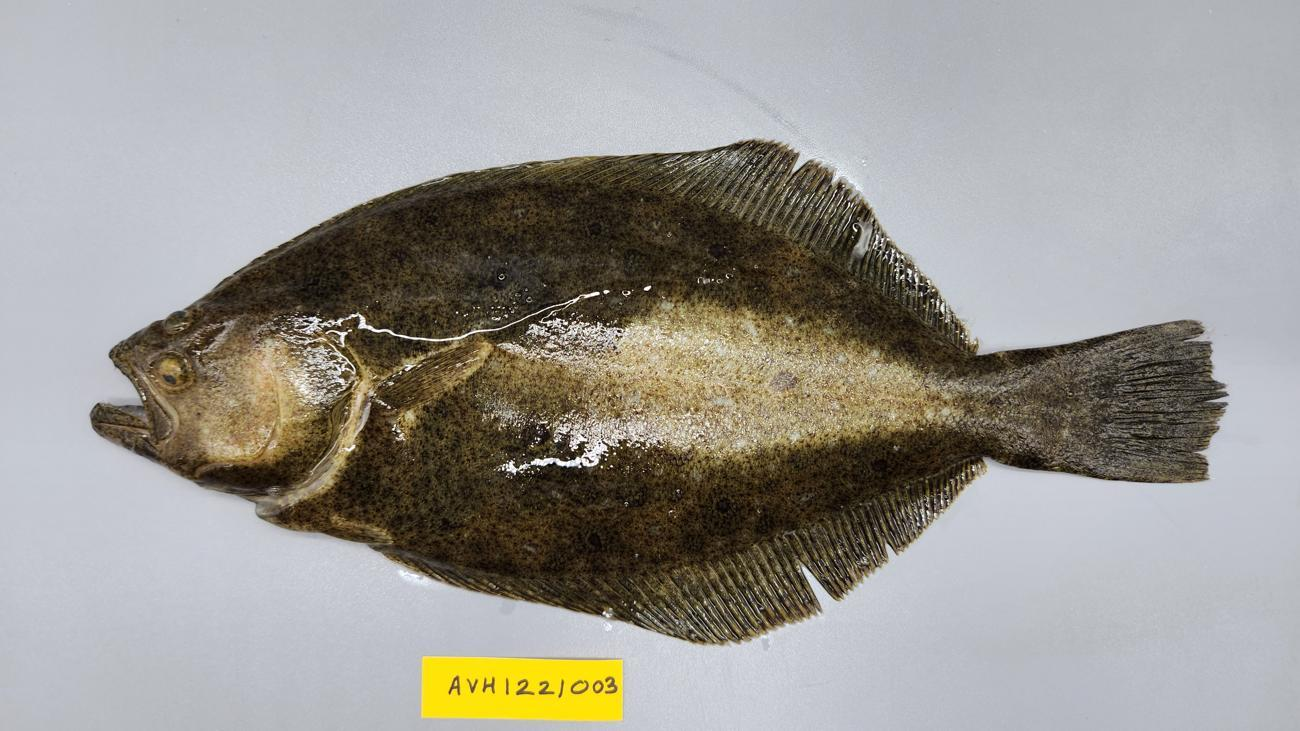VIFAH: (790, 474, 953, 602)
VIFDH: (740, 144, 835, 249)
VIOUY: (92, 140, 1226, 646)
